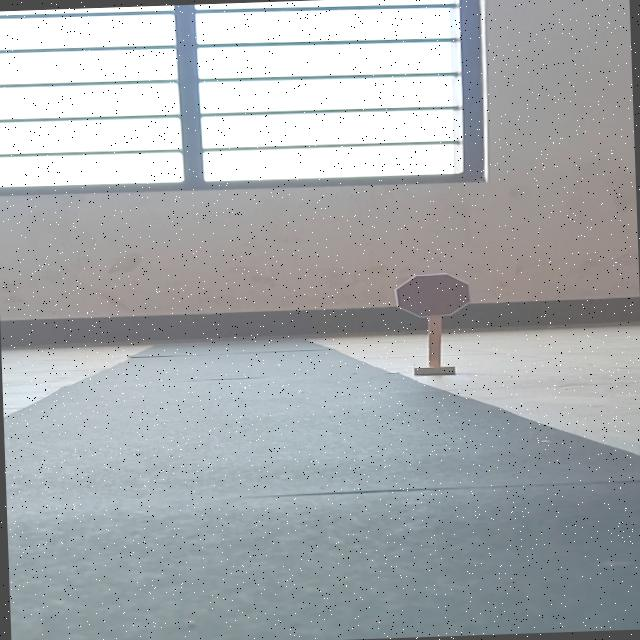Stop: (394, 271, 474, 319)
